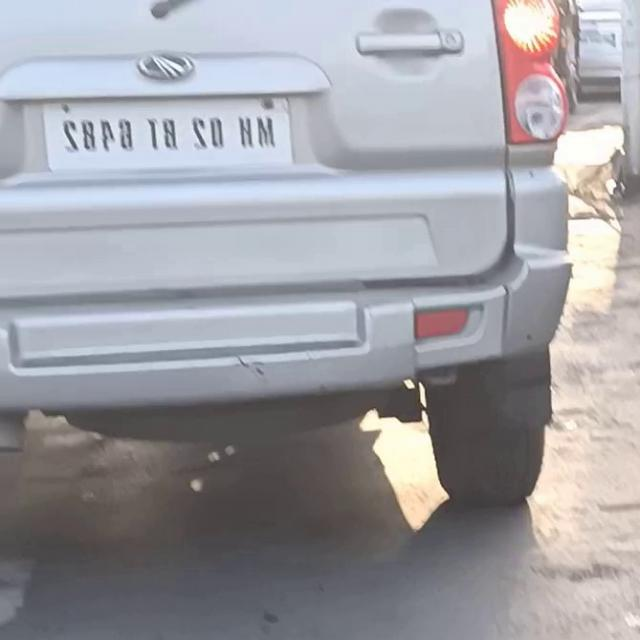license_plate: (40, 87, 296, 182)
